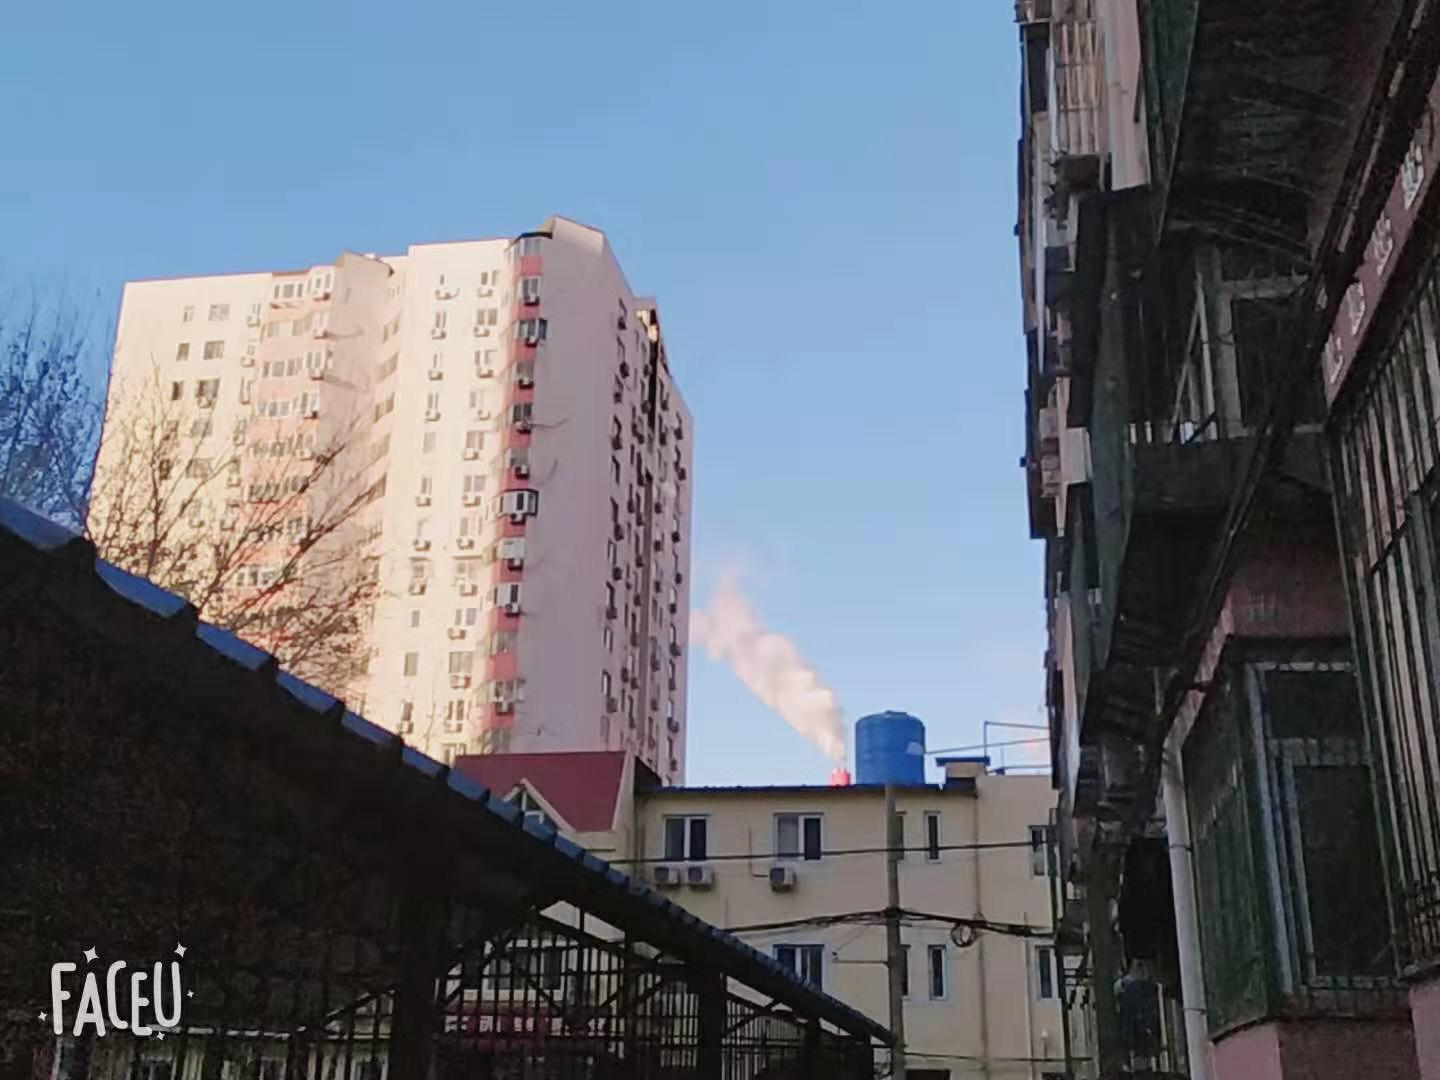yanwu: (692, 577, 847, 763)
